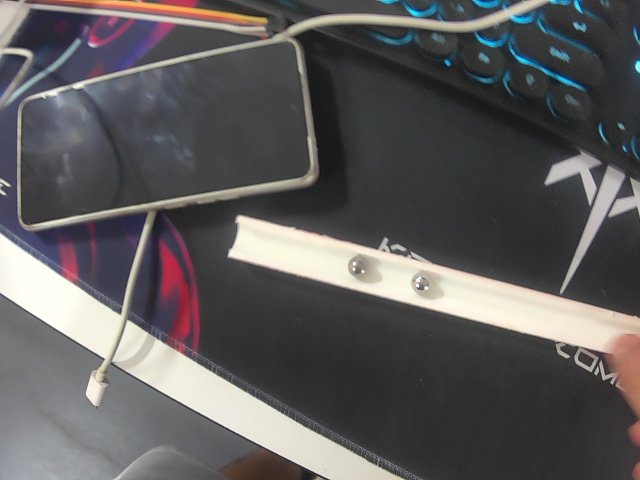steelball: (410, 271, 433, 295), (347, 256, 369, 277)
